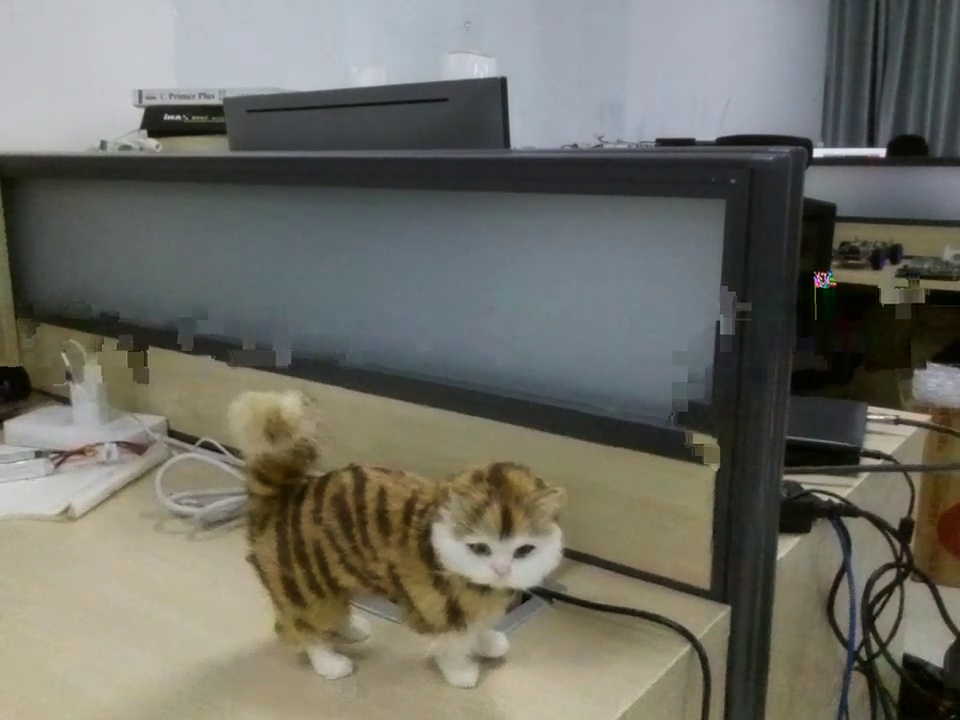cat: (210, 372, 579, 699)
